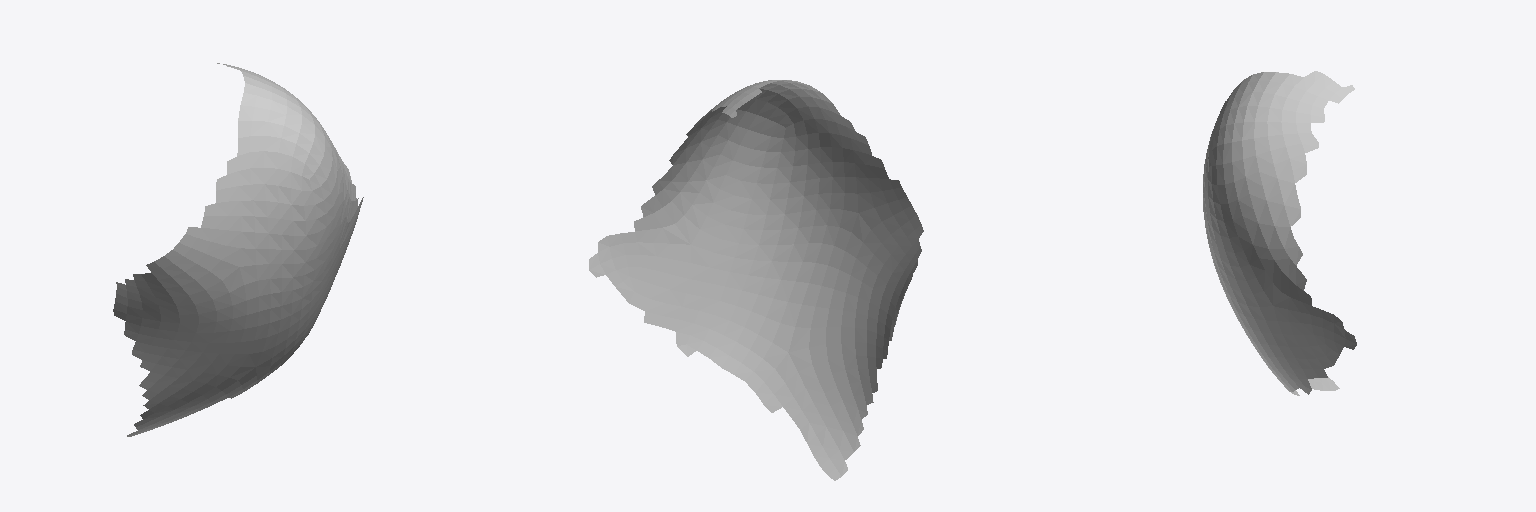
The model's file is Test_5_25_mesh_opt.obj.
The picture shows the model from 3 angles: view 1: azimuth 30°, elevation 25°; view 2: azimuth 150°, elevation 25°; view 3: azimuth 270°, elevation 25°; orthographic projection.
Bounding box in the file's own units: 1.39 × 1.68 × 0.6558.